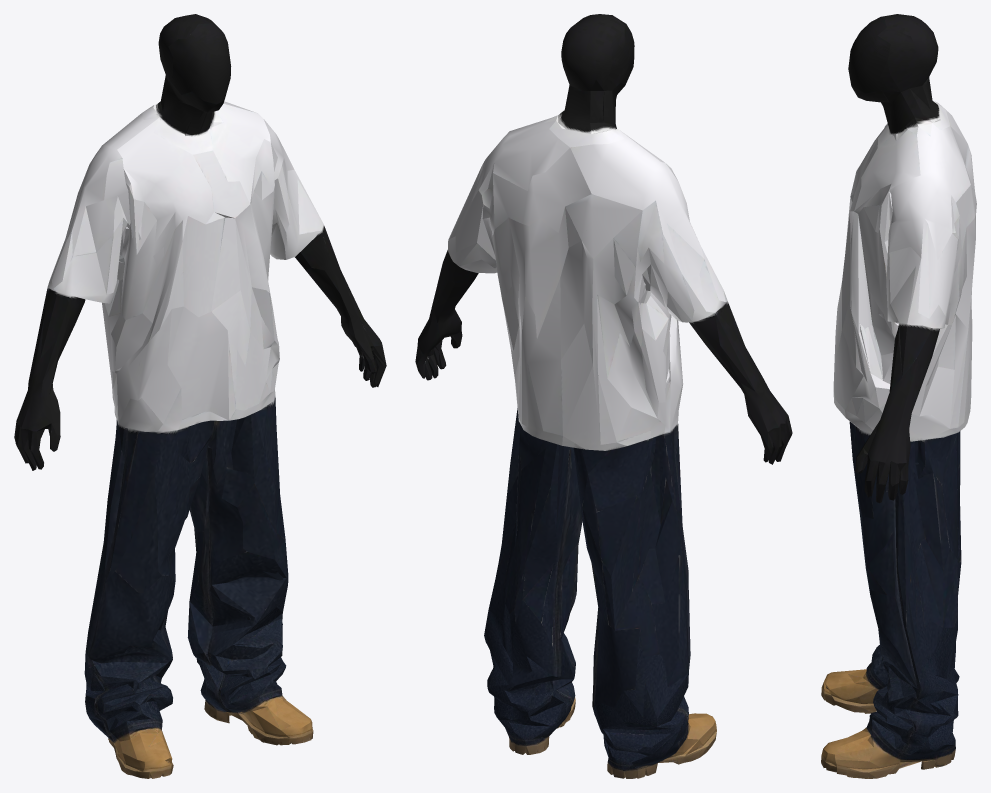
File: homme-baggy.glb
3 views of the same model, side by side, from view 1: azimuth 30°, elevation 25°; view 2: azimuth 150°, elevation 25°; view 3: azimuth 270°, elevation 25° (orthographic).
Parts seen in each view (by area): view 1: dressed; view 2: dressed; view 3: dressed.
Part boxes in pixels (box(x1,y1,x2,y2)): dressed: box(14, 14, 386, 778); dressed: box(415, 14, 792, 778); dressed: box(821, 14, 976, 778).
Bounding box in the file's own units: 0.949 × 1.82 × 0.3579.
1 material, 1 textured.
